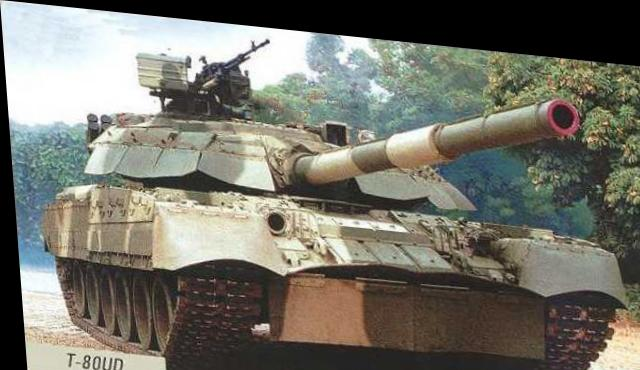tank: (27, 41, 629, 368)
